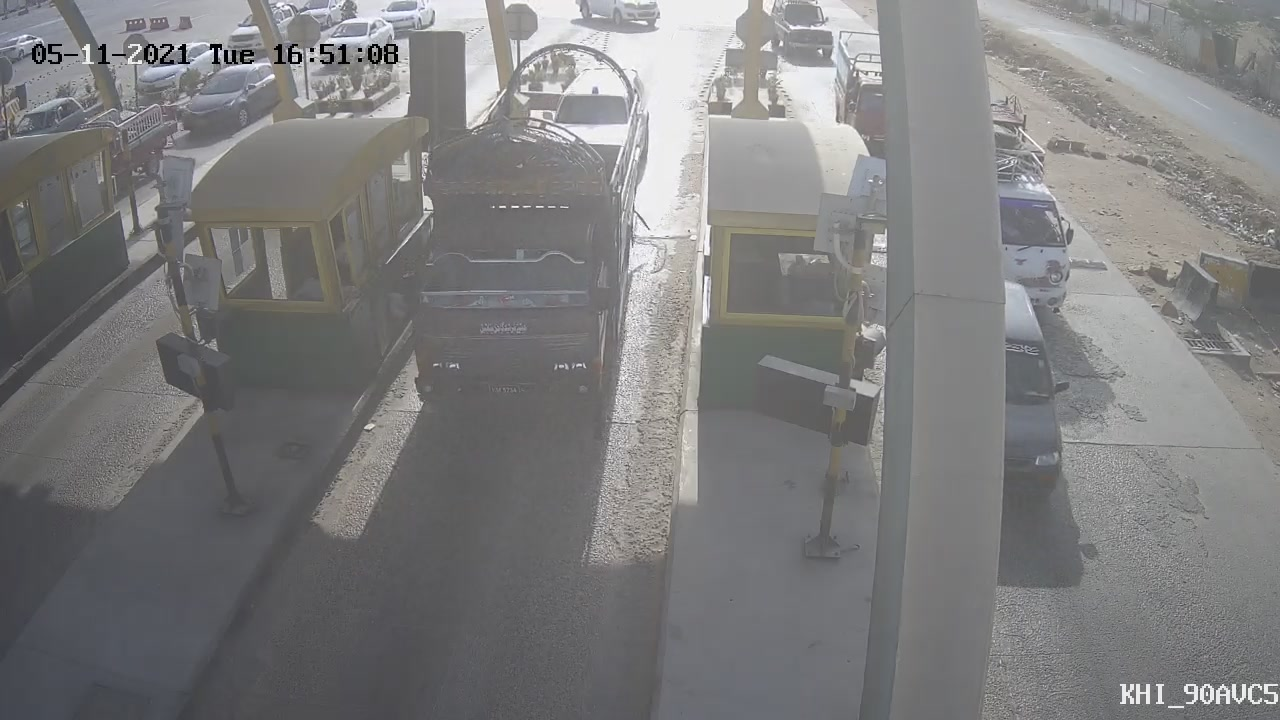F5: (364, 26, 670, 443)
